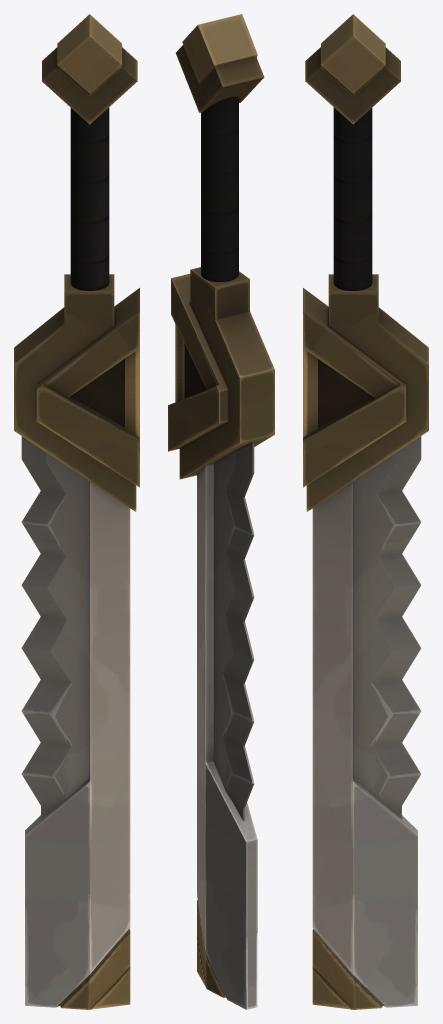
Rendered from SardaukarSword02.fbx.
3 renders of one model, left to right at view 1: azimuth 90°, elevation 25°; view 2: azimuth 210°, elevation 25°; view 3: azimuth 270°, elevation 25°, orthographic.
Visible parts, largest first — view 1: SardaukarSword_02; view 2: SardaukarSword_02; view 3: SardaukarSword_02.
Boxes of the visible parts, x1,y1,x2,y2 form: SardaukarSword_02: (14,14,139,1009); SardaukarSword_02: (168,14,274,1009); SardaukarSword_02: (303,14,428,1009).
Size of the model in its own units: 0.1321 by 0.2622 by 2.25.
